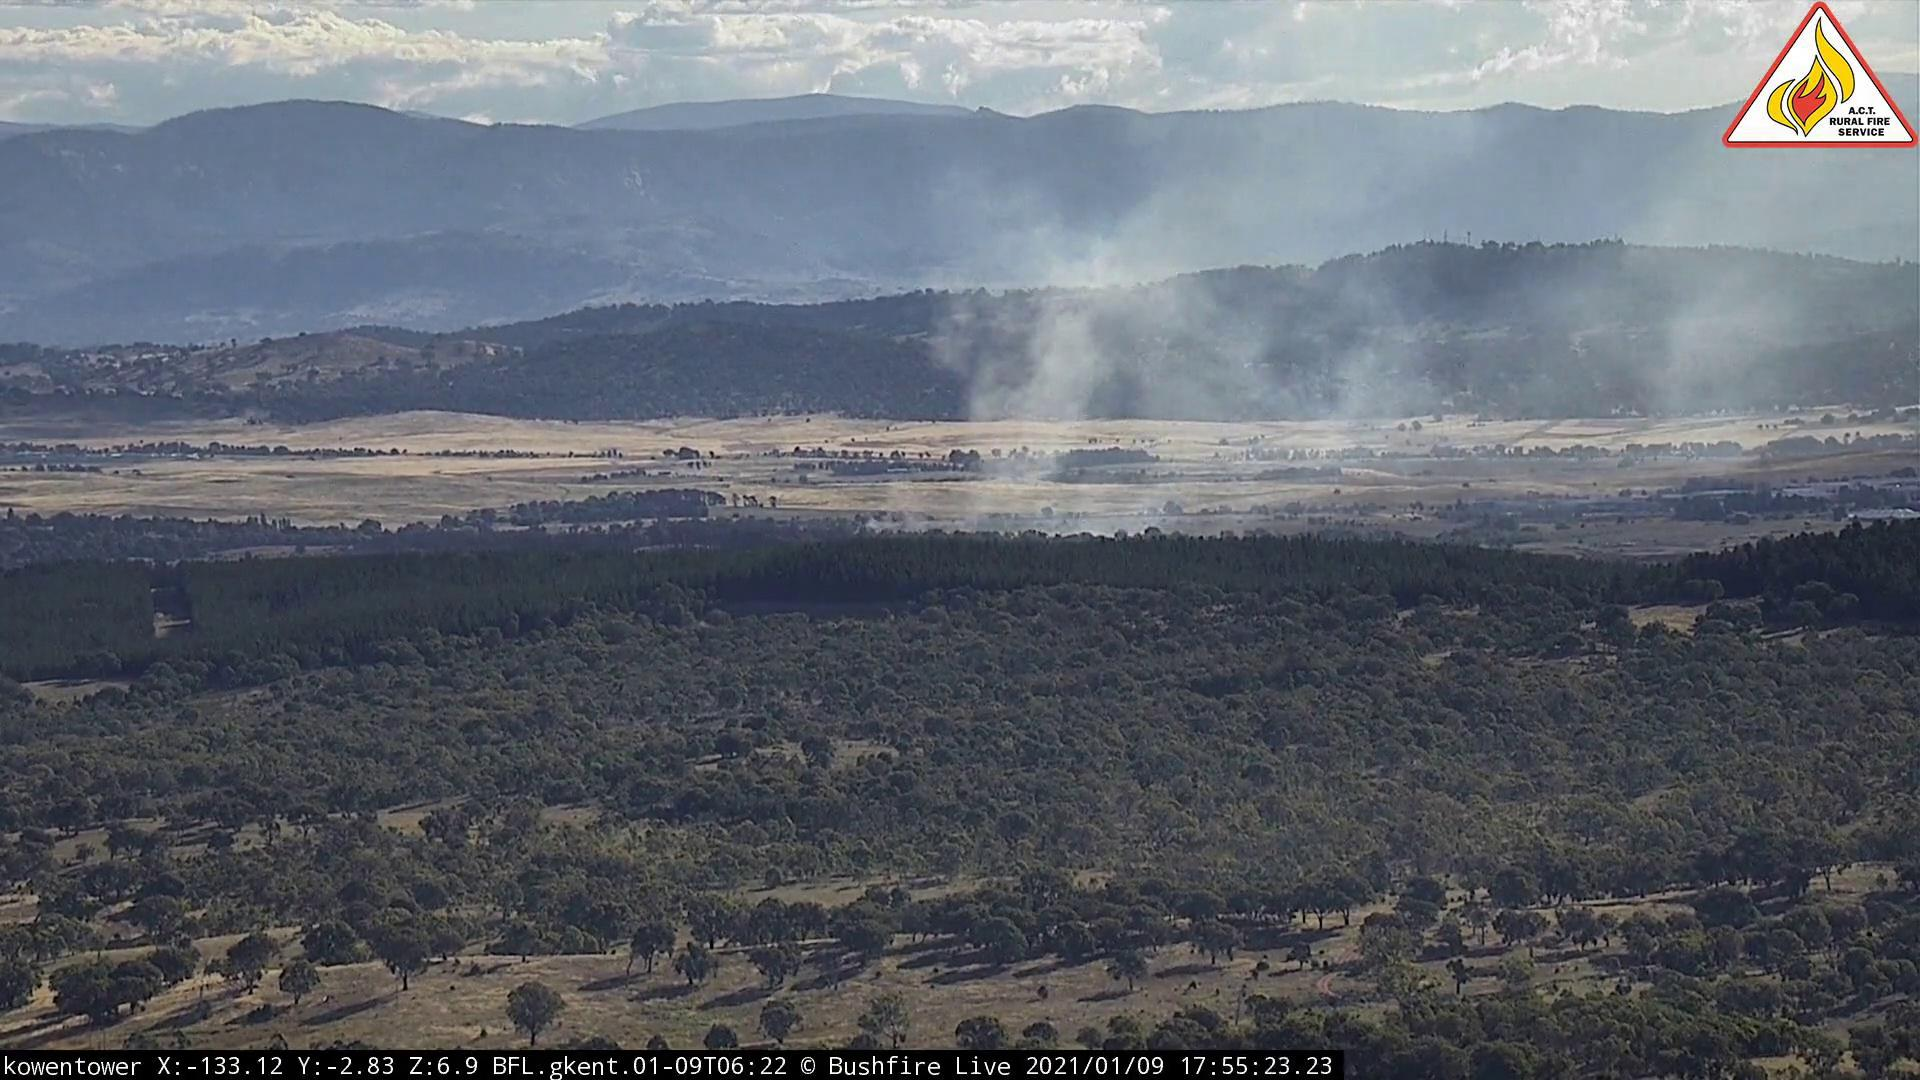Smoke: (893, 123, 1716, 542)
